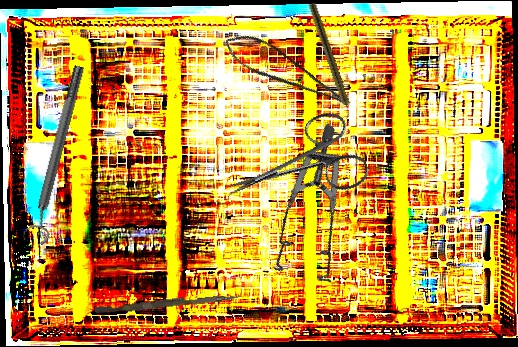Fixation Ring: (19, 62, 95, 247)
Handpiece: (306, 2, 355, 120)
Iris Scissors: (213, 105, 373, 231)
Micro Scissor: (218, 20, 354, 129)
Pusher: (94, 289, 243, 317)
Speculum: (228, 122, 410, 304)
